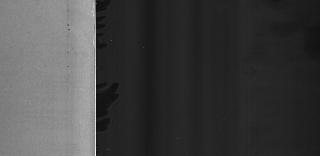oil spot: (64, 3, 70, 55)
